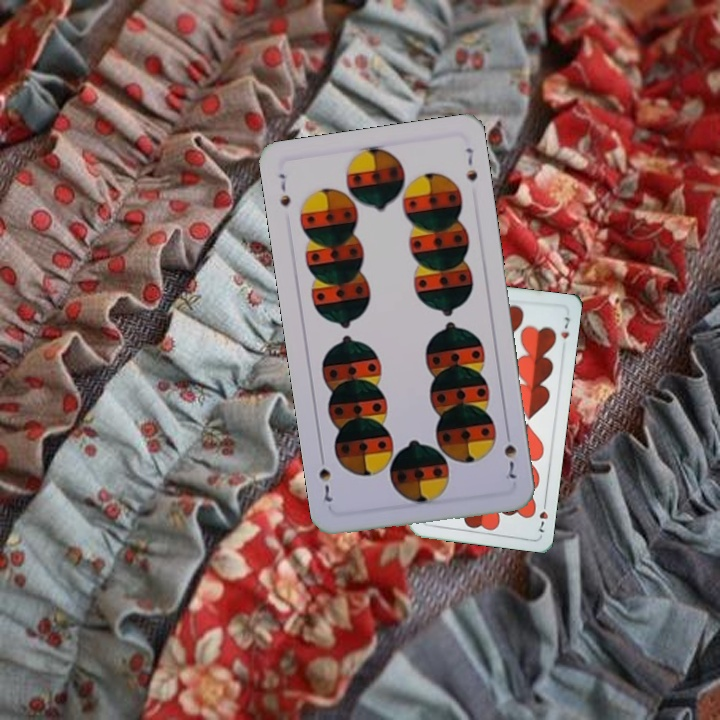H7: (535, 496, 551, 535)
S7: (500, 425, 519, 482), (274, 169, 293, 210)
